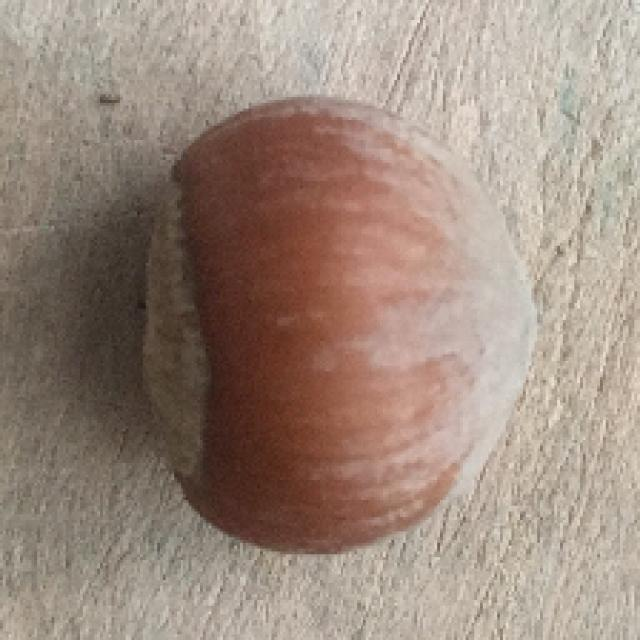qualityHazelnut: (152, 88, 538, 552)
